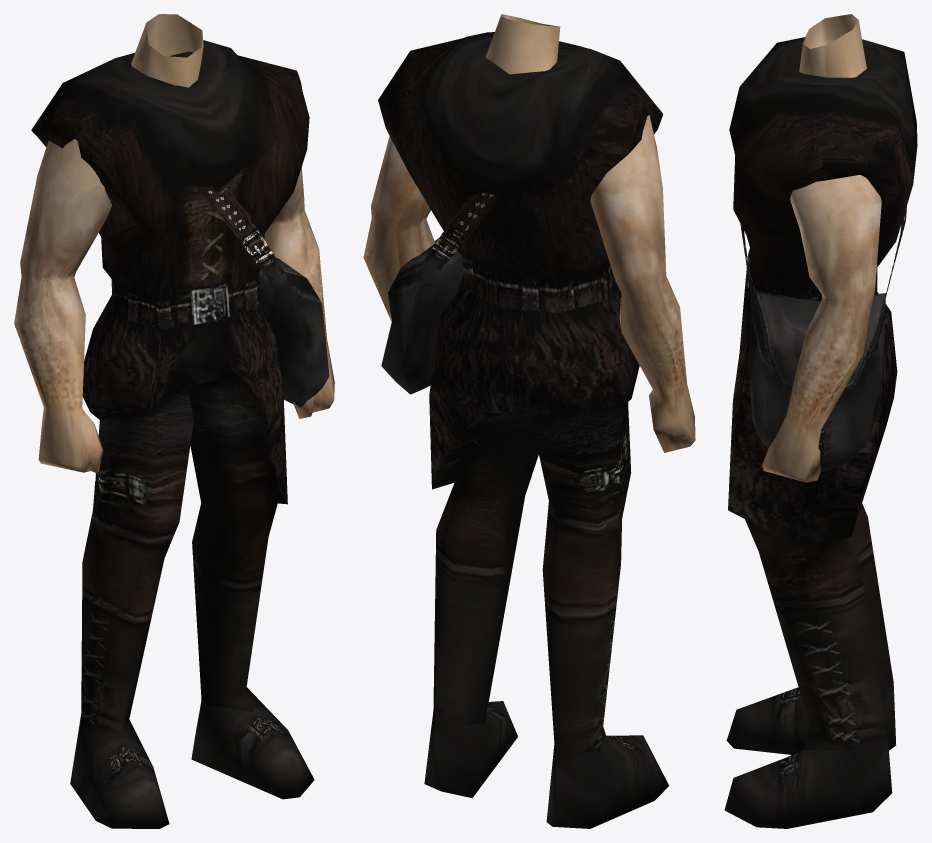
File: SZKODNIK_SABAT.glb
3 renders of one model, left to right at view 1: azimuth 30°, elevation 25°; view 2: azimuth 150°, elevation 25°; view 3: azimuth 270°, elevation 25°, orthographic. The views are drawn at different scales.
Visible parts, largest first — view 1: SZKODNIK_SABAT; view 2: SZKODNIK_SABAT; view 3: SZKODNIK_SABAT.
Boxes of the visible parts, x1,y1,x2,y2 form: SZKODNIK_SABAT: (14,14,334,828); SZKODNIK_SABAT: (363,14,695,828); SZKODNIK_SABAT: (724,14,917,828).
Size of the model in its own units: 0.688 by 1.69 by 0.387.
Materials: 2 (2 with a texture image).
